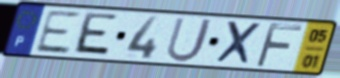4: (124, 14, 162, 61)
E: (70, 11, 121, 59), (32, 9, 83, 56)
F: (252, 21, 304, 70)
U: (163, 16, 215, 64)
X: (212, 20, 264, 67)
